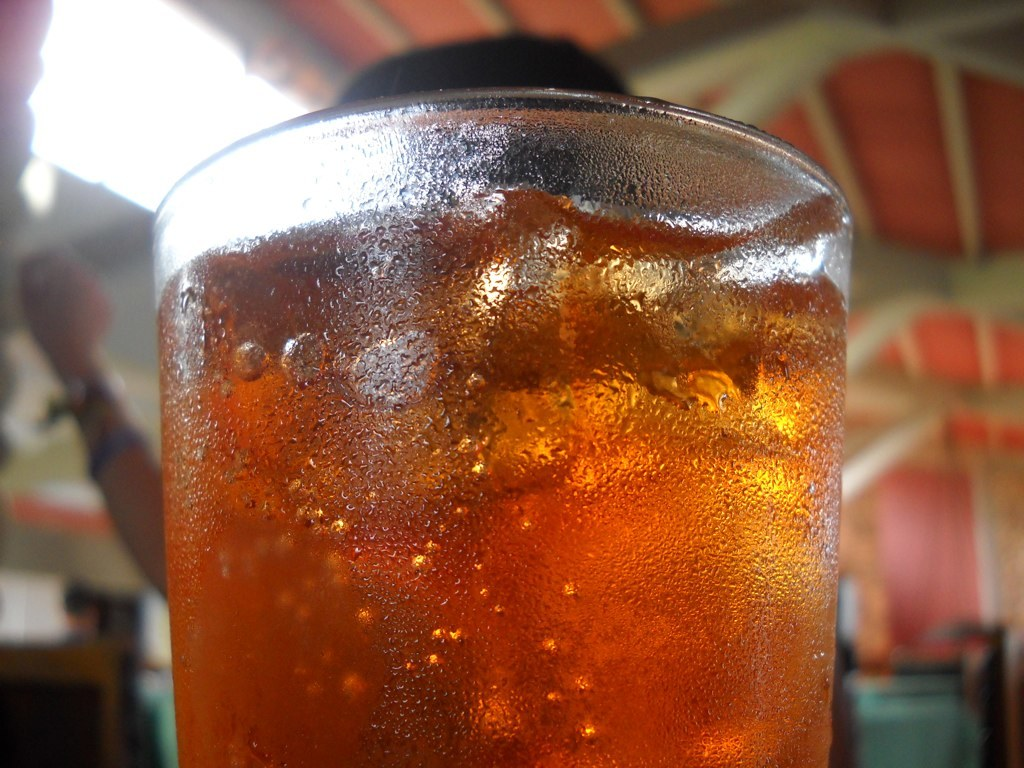Beer: (151, 90, 851, 768)
